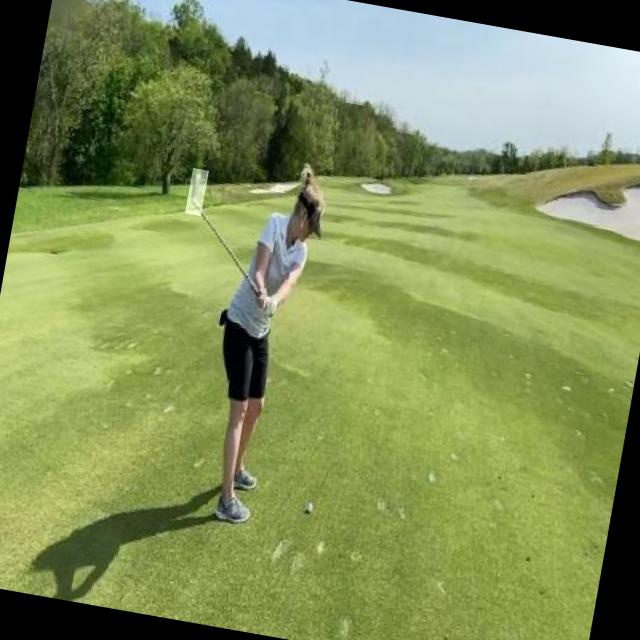club head: (184, 168, 208, 216)
